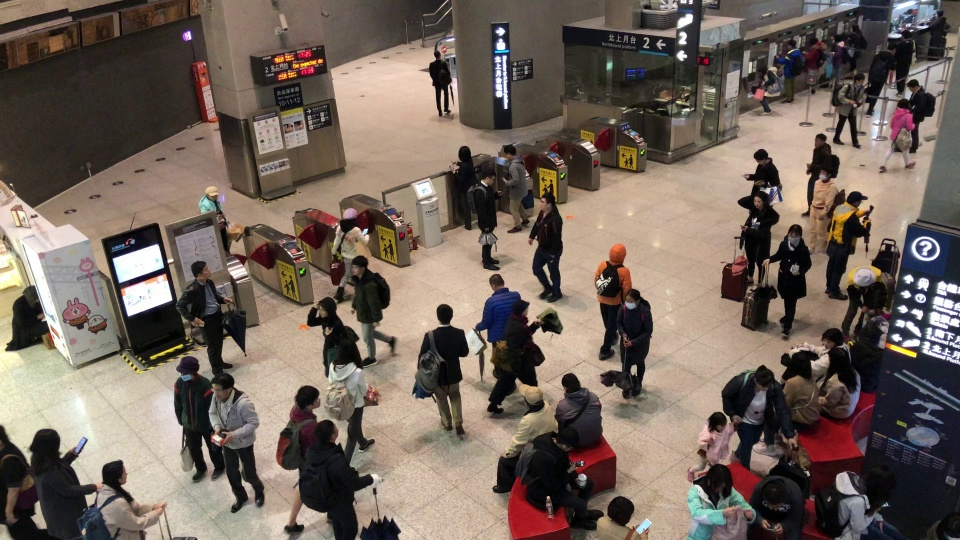person_head: (866, 464, 896, 500), (29, 427, 60, 460), (606, 495, 634, 525), (761, 479, 787, 509), (293, 384, 321, 411), (210, 372, 235, 402), (707, 464, 731, 495), (101, 459, 127, 485), (174, 355, 200, 381), (518, 382, 543, 409), (825, 348, 850, 375), (336, 339, 361, 365), (555, 427, 580, 452), (312, 418, 338, 442), (791, 352, 812, 378), (939, 517, 960, 540), (435, 302, 454, 326), (561, 372, 582, 393), (317, 297, 337, 319), (854, 265, 876, 285), (755, 368, 775, 390), (608, 241, 627, 264), (190, 260, 211, 280), (822, 327, 843, 347), (708, 410, 727, 431), (846, 190, 868, 208), (625, 287, 641, 310), (351, 254, 367, 276), (512, 298, 530, 316), (481, 166, 497, 186), (539, 192, 556, 210), (488, 272, 505, 290), (752, 190, 768, 209), (752, 148, 769, 165), (788, 223, 803, 242), (24, 286, 38, 305), (818, 164, 833, 181), (342, 207, 358, 222), (457, 144, 471, 161), (203, 185, 218, 199), (896, 96, 911, 110), (503, 144, 516, 160), (907, 77, 921, 91), (814, 132, 827, 147), (853, 72, 865, 85), (901, 28, 911, 40), (757, 63, 767, 74), (433, 48, 442, 60), (887, 42, 896, 54), (808, 35, 818, 45), (851, 21, 860, 32), (788, 37, 796, 49), (833, 34, 842, 42), (935, 10, 944, 17)
person_vbox: (297, 419, 383, 540), (513, 427, 604, 531), (273, 384, 333, 535), (27, 426, 103, 540), (206, 371, 265, 514), (721, 364, 799, 472), (491, 382, 558, 495), (415, 302, 470, 439), (75, 459, 167, 540), (486, 297, 547, 417), (751, 352, 821, 456), (814, 461, 902, 540), (174, 260, 234, 375), (322, 339, 376, 466), (172, 354, 225, 483), (760, 223, 813, 337), (348, 254, 399, 367), (686, 463, 757, 540), (823, 190, 872, 301), (0, 425, 47, 540), (473, 273, 522, 376), (776, 326, 852, 390), (593, 242, 633, 361), (746, 463, 807, 540), (305, 296, 359, 379), (736, 190, 780, 288), (616, 288, 654, 400), (527, 191, 563, 302), (466, 166, 504, 271), (330, 207, 371, 301), (554, 371, 604, 448), (800, 132, 841, 218), (686, 410, 734, 483), (839, 264, 887, 336), (817, 347, 861, 420), (877, 96, 916, 173), (806, 164, 838, 255), (5, 284, 47, 351), (862, 40, 898, 118), (741, 148, 782, 216), (501, 144, 531, 235), (830, 70, 865, 148), (448, 144, 477, 231), (596, 495, 650, 540), (906, 76, 937, 154), (198, 185, 232, 252), (775, 37, 804, 106), (751, 62, 784, 116), (428, 47, 452, 115), (843, 21, 868, 81), (802, 35, 826, 96), (821, 34, 848, 88), (894, 28, 913, 97), (926, 514, 959, 540), (925, 9, 950, 39)
